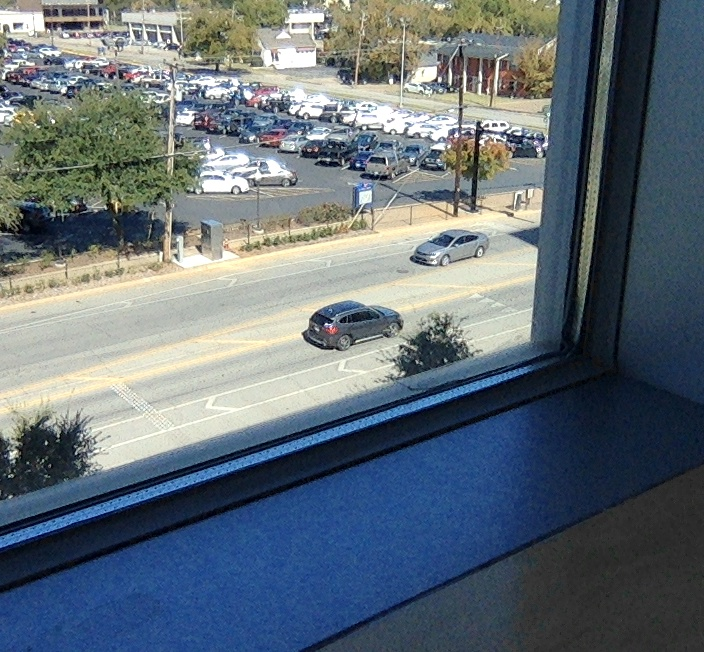car: (300, 300, 404, 352)
